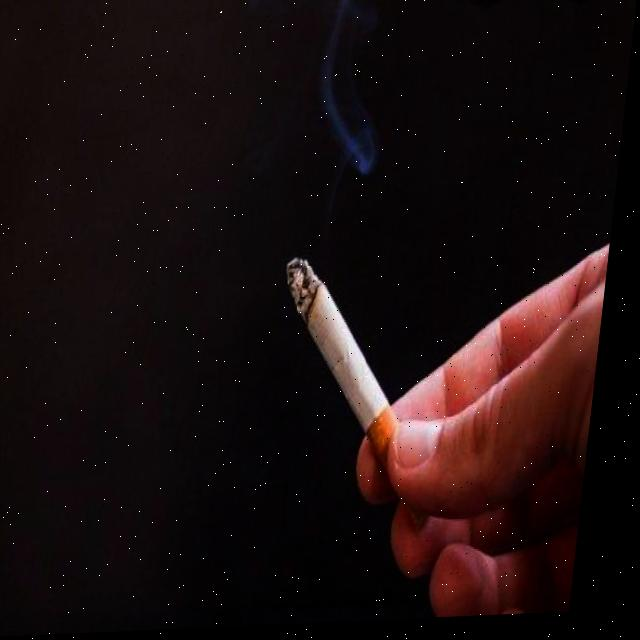cigarette: (272, 252, 468, 543)
